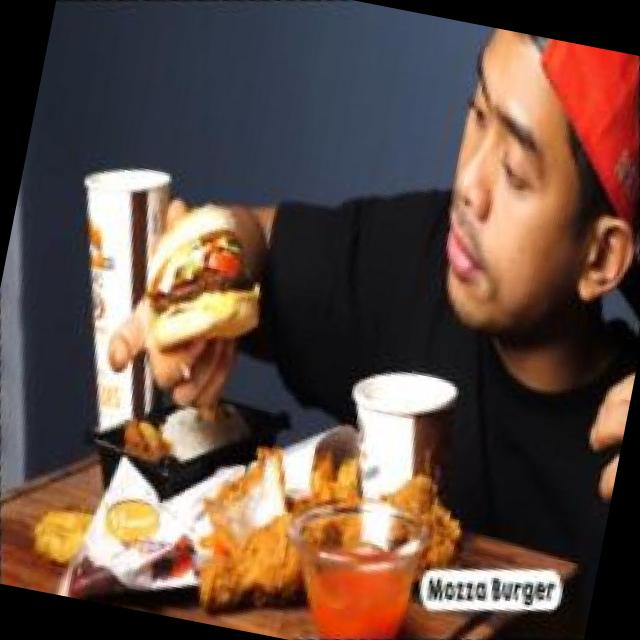AW cola: (28, 146, 229, 462)
black pepper rice bowl: (95, 355, 286, 518)
chicken waffle: (284, 398, 393, 524)
crispy corn: (318, 340, 497, 554)
fried chicken: (169, 404, 502, 640)
mozza burger: (110, 172, 302, 384)
perkedel: (8, 472, 140, 600)
